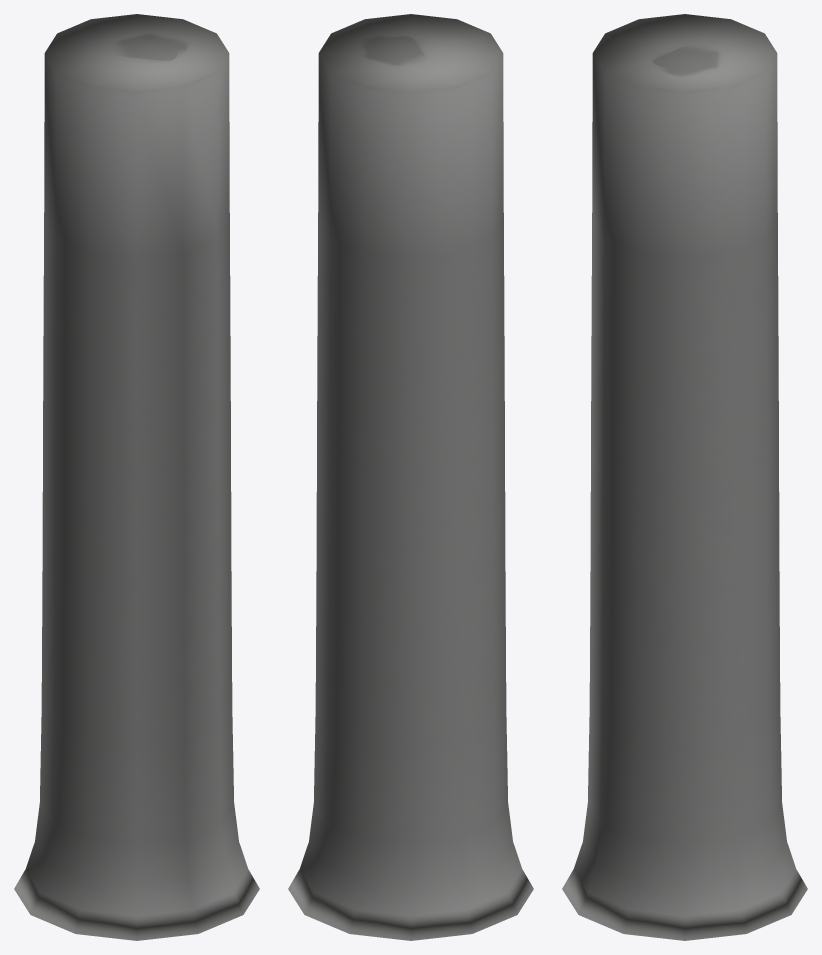
The model's file is park-trunk-unit-tripo-original.glb.
The picture shows the model from 3 angles, left to right: view 1: azimuth 30°, elevation 25°; view 2: azimuth 150°, elevation 25°; view 3: azimuth 270°, elevation 25°; orthographic projection.
Visible parts, largest first — view 1: Authored_surface; view 2: Authored_surface; view 3: Authored_surface.
Boxes of the visible parts, x1,y1,x2,y2 form: Authored_surface: (14, 14, 259, 940); Authored_surface: (288, 14, 533, 940); Authored_surface: (562, 14, 807, 940).
Size of the model in its own units: 0.2667 by 1 by 0.2667.
1 material, 1 textured.
